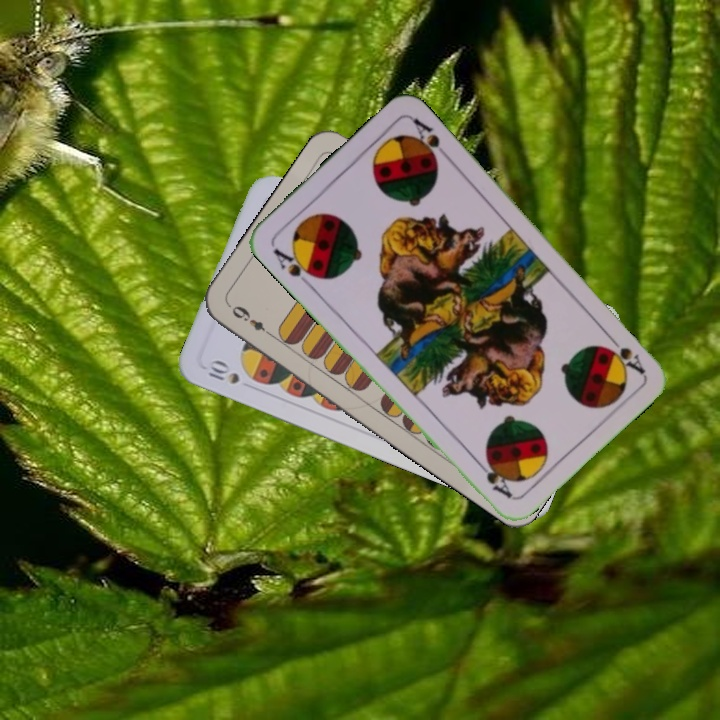E9: (227, 301, 276, 340)
S10: (203, 356, 242, 387)
SA: (269, 244, 321, 290), (602, 329, 648, 377)
